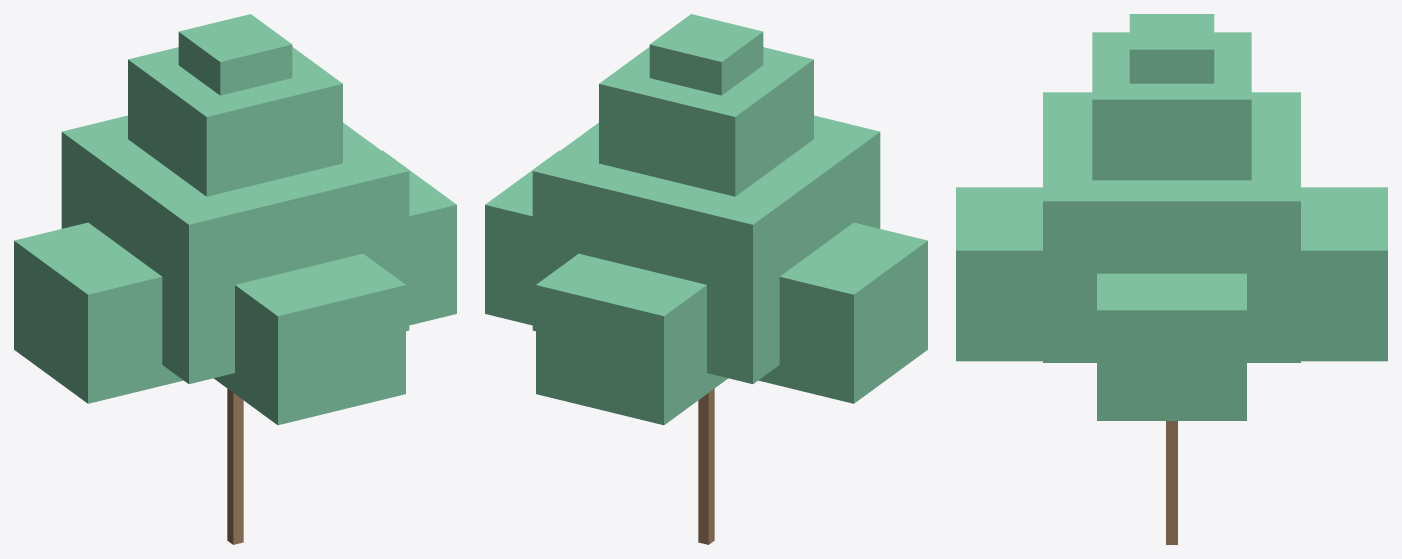
The model's file is Prop_DS_Tree_39.glb.
3 renders of one model, left to right at view 1: azimuth 30°, elevation 25°; view 2: azimuth 150°, elevation 25°; view 3: azimuth 270°, elevation 25°, orthographic.
Parts seen in each view (by area): view 1: Cube.001, Cube.005, Cube.006, Cube.003, Cube.007, Cube.002, Cube; view 2: Cube.001, Cube.004, Cube.006, Cube.003, Cube.007, Cube.002, Cube; view 3: Cube.001, Cube.002, Cube.006, Cube.004, Cube.005, Cube.007, Cube.
Part boxes in pixels (<box>): Cube.001: <box>61,115,409,383</box>; Cube.005: <box>214,253,405,425</box>; Cube.006: <box>128,47,342,196</box>; Cube.003: <box>14,222,183,403</box>; Cube.007: <box>178,14,292,95</box>; Cube.002: <box>382,150,456,325</box>; Cube: <box>227,388,243,544</box>; Cube.001: <box>532,115,880,383</box>; Cube.004: <box>536,253,727,425</box>; Cube.006: <box>599,47,813,196</box>; Cube.003: <box>758,222,927,403</box>; Cube.007: <box>649,14,763,95</box>; Cube.002: <box>485,150,559,325</box>; Cube: <box>698,388,714,544</box>; Cube.001: <box>1043,92,1300,362</box>; Cube.002: <box>1097,273,1246,420</box>; Cube.006: <box>1092,32,1251,180</box>; Cube.004: <box>1301,187,1387,361</box>; Cube.005: <box>956,187,1042,361</box>; Cube.007: <box>1129,14,1214,83</box>; Cube: <box>1166,421,1177,544</box>.
Bounding box in the file's own units: 10.81 × 14.1 × 10.81.
